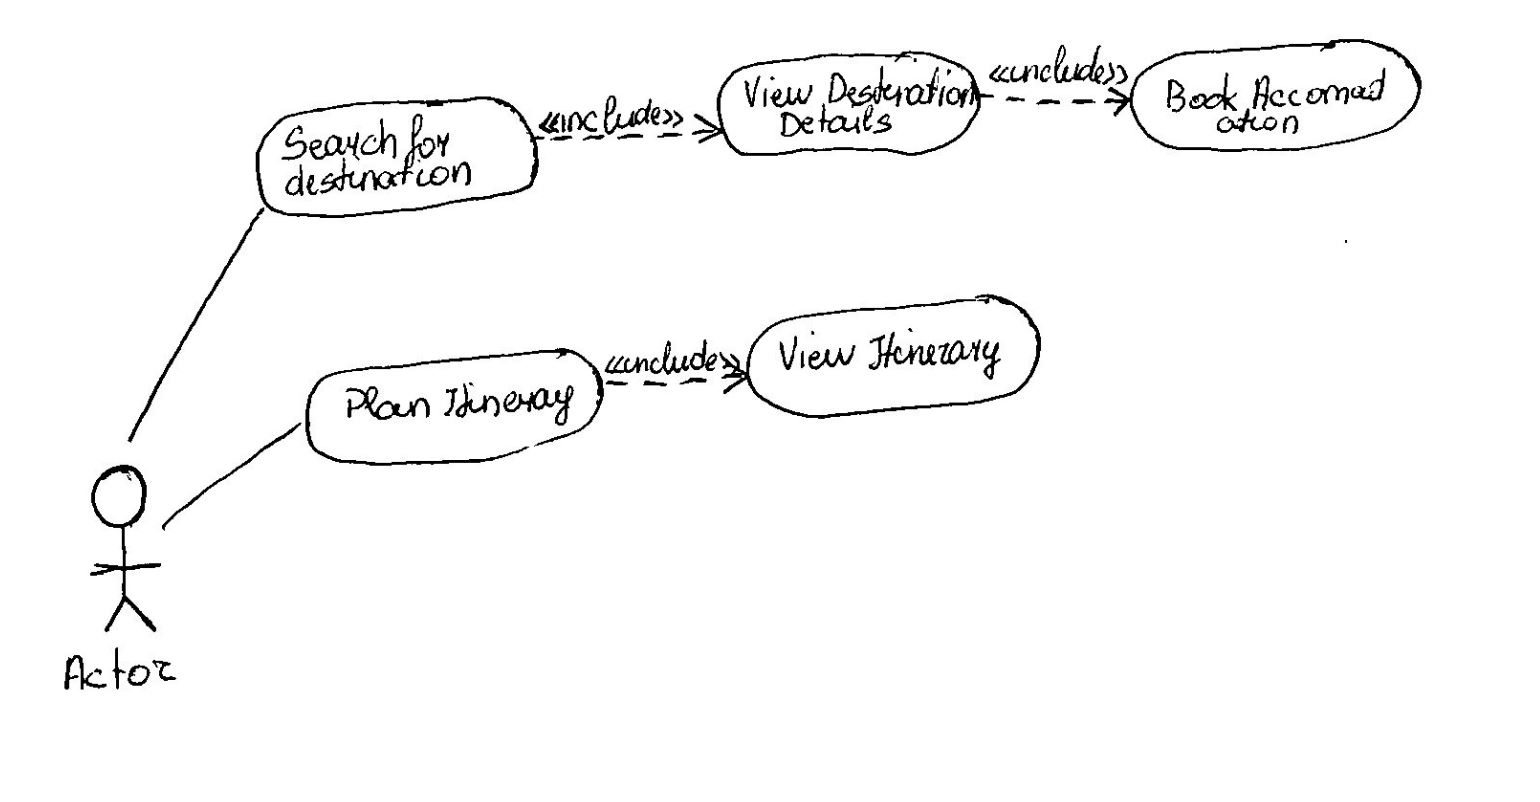actor: (82, 460, 172, 640)
association: (127, 206, 264, 445), (158, 422, 307, 533), (540, 116, 723, 149), (977, 84, 1131, 122), (599, 369, 749, 394)
text: (1158, 70, 1389, 139), (281, 118, 484, 194), (743, 69, 963, 139), (774, 325, 1007, 386), (340, 379, 575, 431), (983, 41, 1129, 89), (55, 647, 181, 700), (534, 94, 684, 133), (603, 339, 738, 373)
use_case: (747, 293, 1042, 422), (252, 95, 541, 222), (305, 347, 605, 469), (1127, 39, 1422, 155), (713, 50, 983, 159)
